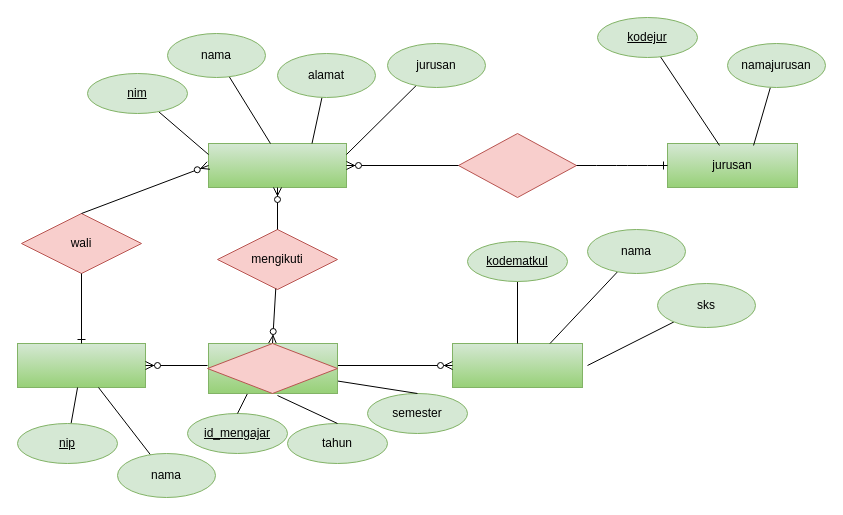
This 843x515 diagram has some shape labels left out. Here are the shapes that lost their labels. From the top down, the box of each, then its label:
(208, 142, 346, 188): mahasiswa
(458, 132, 576, 198): memiliki
(16, 342, 146, 388): dosen
(206, 342, 338, 394): mengajar
(452, 342, 582, 388): matakuliah
